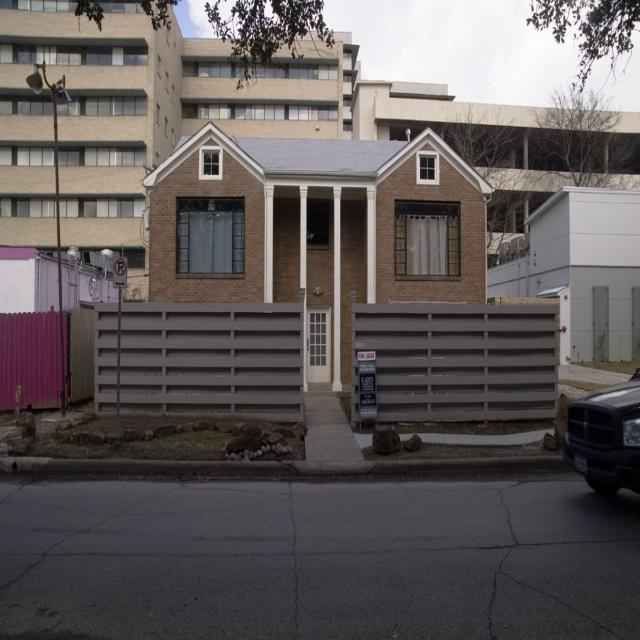other: (562, 369, 640, 500)
